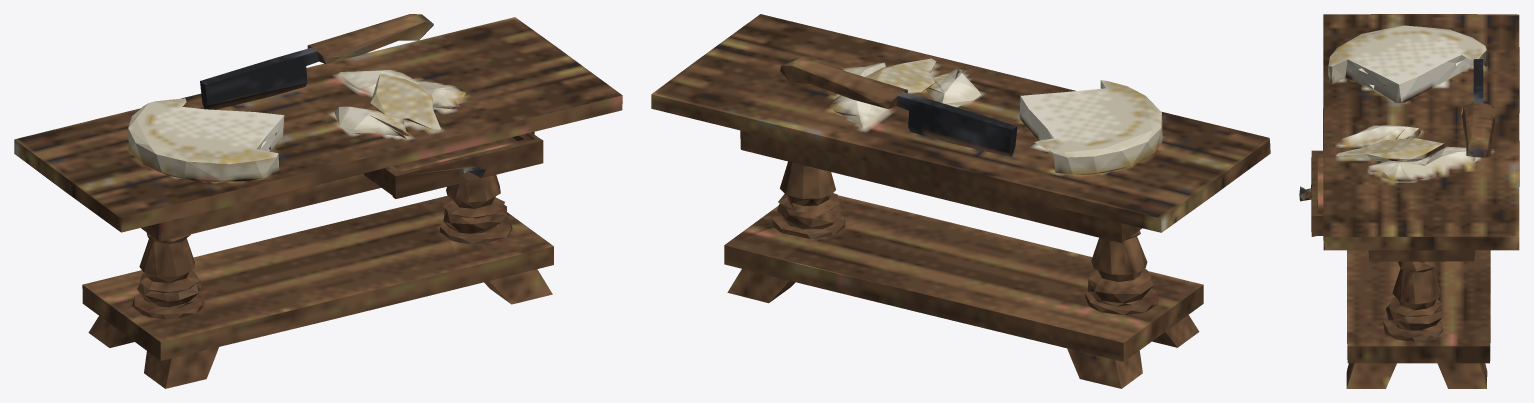
File: SM_MeshyButcher.fbx
The picture shows the model from 3 angles, left to right: view 1: azimuth 30°, elevation 25°; view 2: azimuth 150°, elevation 25°; view 3: azimuth 270°, elevation 25°; orthographic projection. The views are drawn at different scales.
Parts seen in each view (by area): view 1: SM_MeshyButcher; view 2: SM_MeshyButcher; view 3: SM_MeshyButcher.
Part boxes in pixels (x1,y1,x2,y2): SM_MeshyButcher: (14, 14, 622, 388); SM_MeshyButcher: (651, 14, 1270, 388); SM_MeshyButcher: (1299, 14, 1519, 388).
Bounding box in the file's own units: 2.4 × 1.1 × 0.9987.
1 material, 1 textured.
